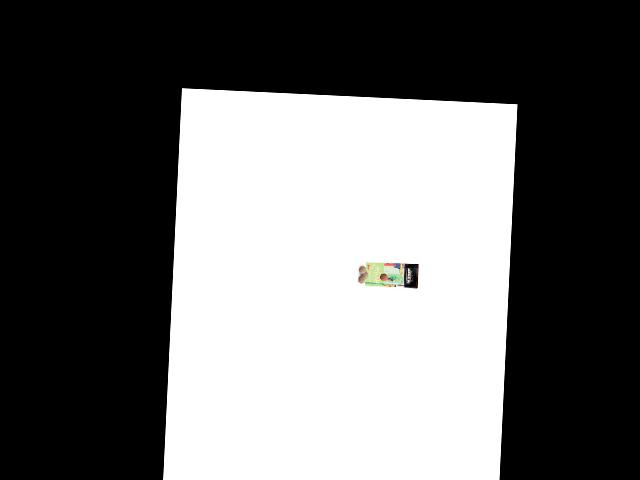chocolate: (363, 258, 421, 294)
